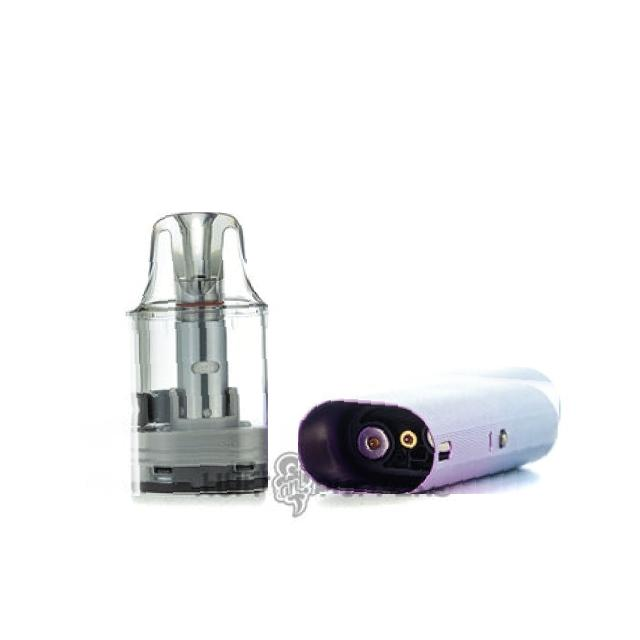Vapes: (124, 212, 268, 496), (298, 363, 560, 494)
